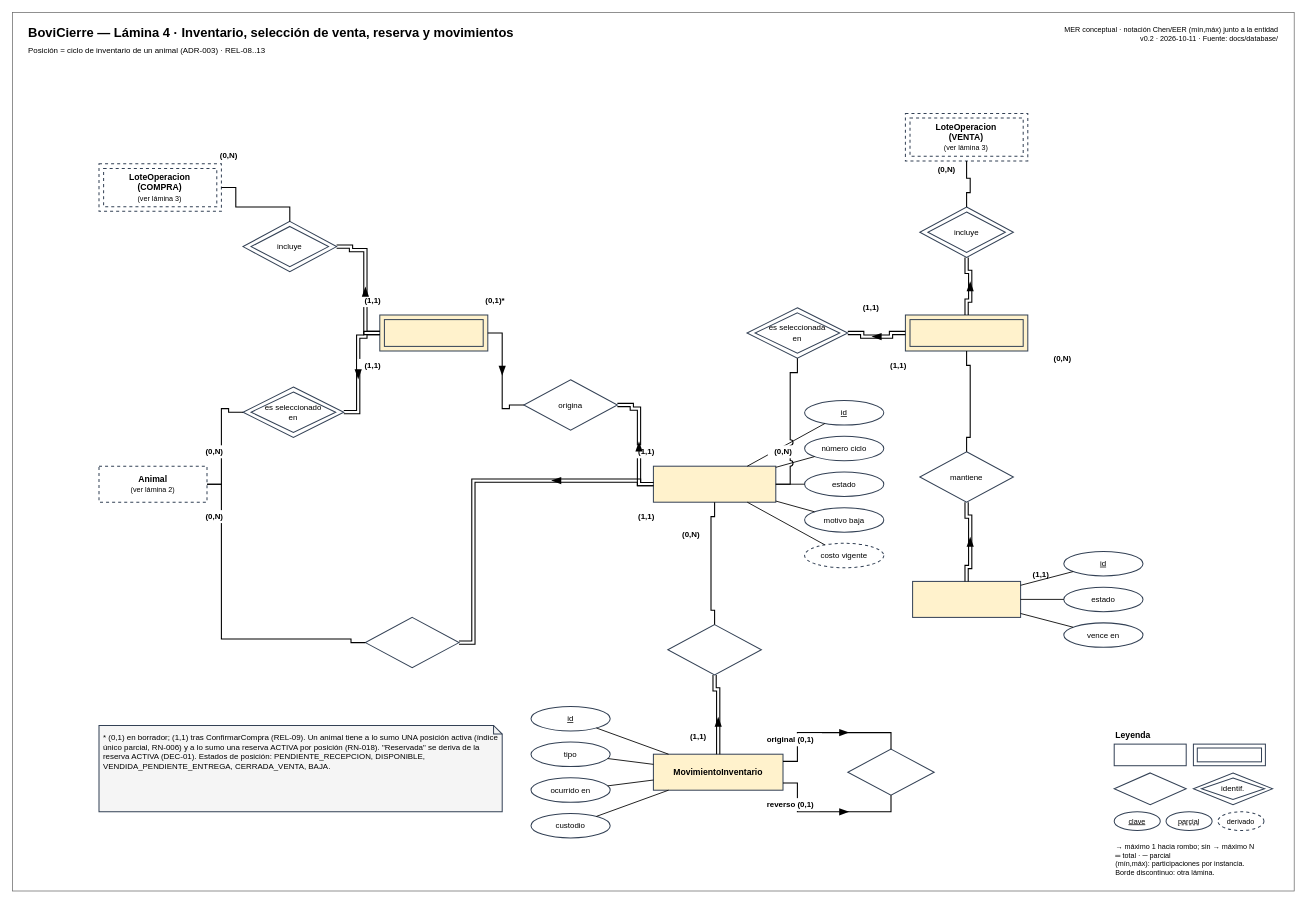
The diagram is 1307 pixels wide and 904 high, and some of its shapes have lost their labels. The shapes that lost their labels are listed below. From the top down, each one's centre as x and y in pixels, then its label:
At (433,332): "SeleccionCompra".
At (966,332): "SeleccionVenta".
At (714,483): "PosicionInventario".
At (966,599): "ReservaVenta".
At (412,642): "participa en".
At (714,649): "registra".
At (890,771): "revierte".
At (1149,754): "Entidad fuerte".
At (1229,754): "Entidad débil".
At (1149,788): "relación".
